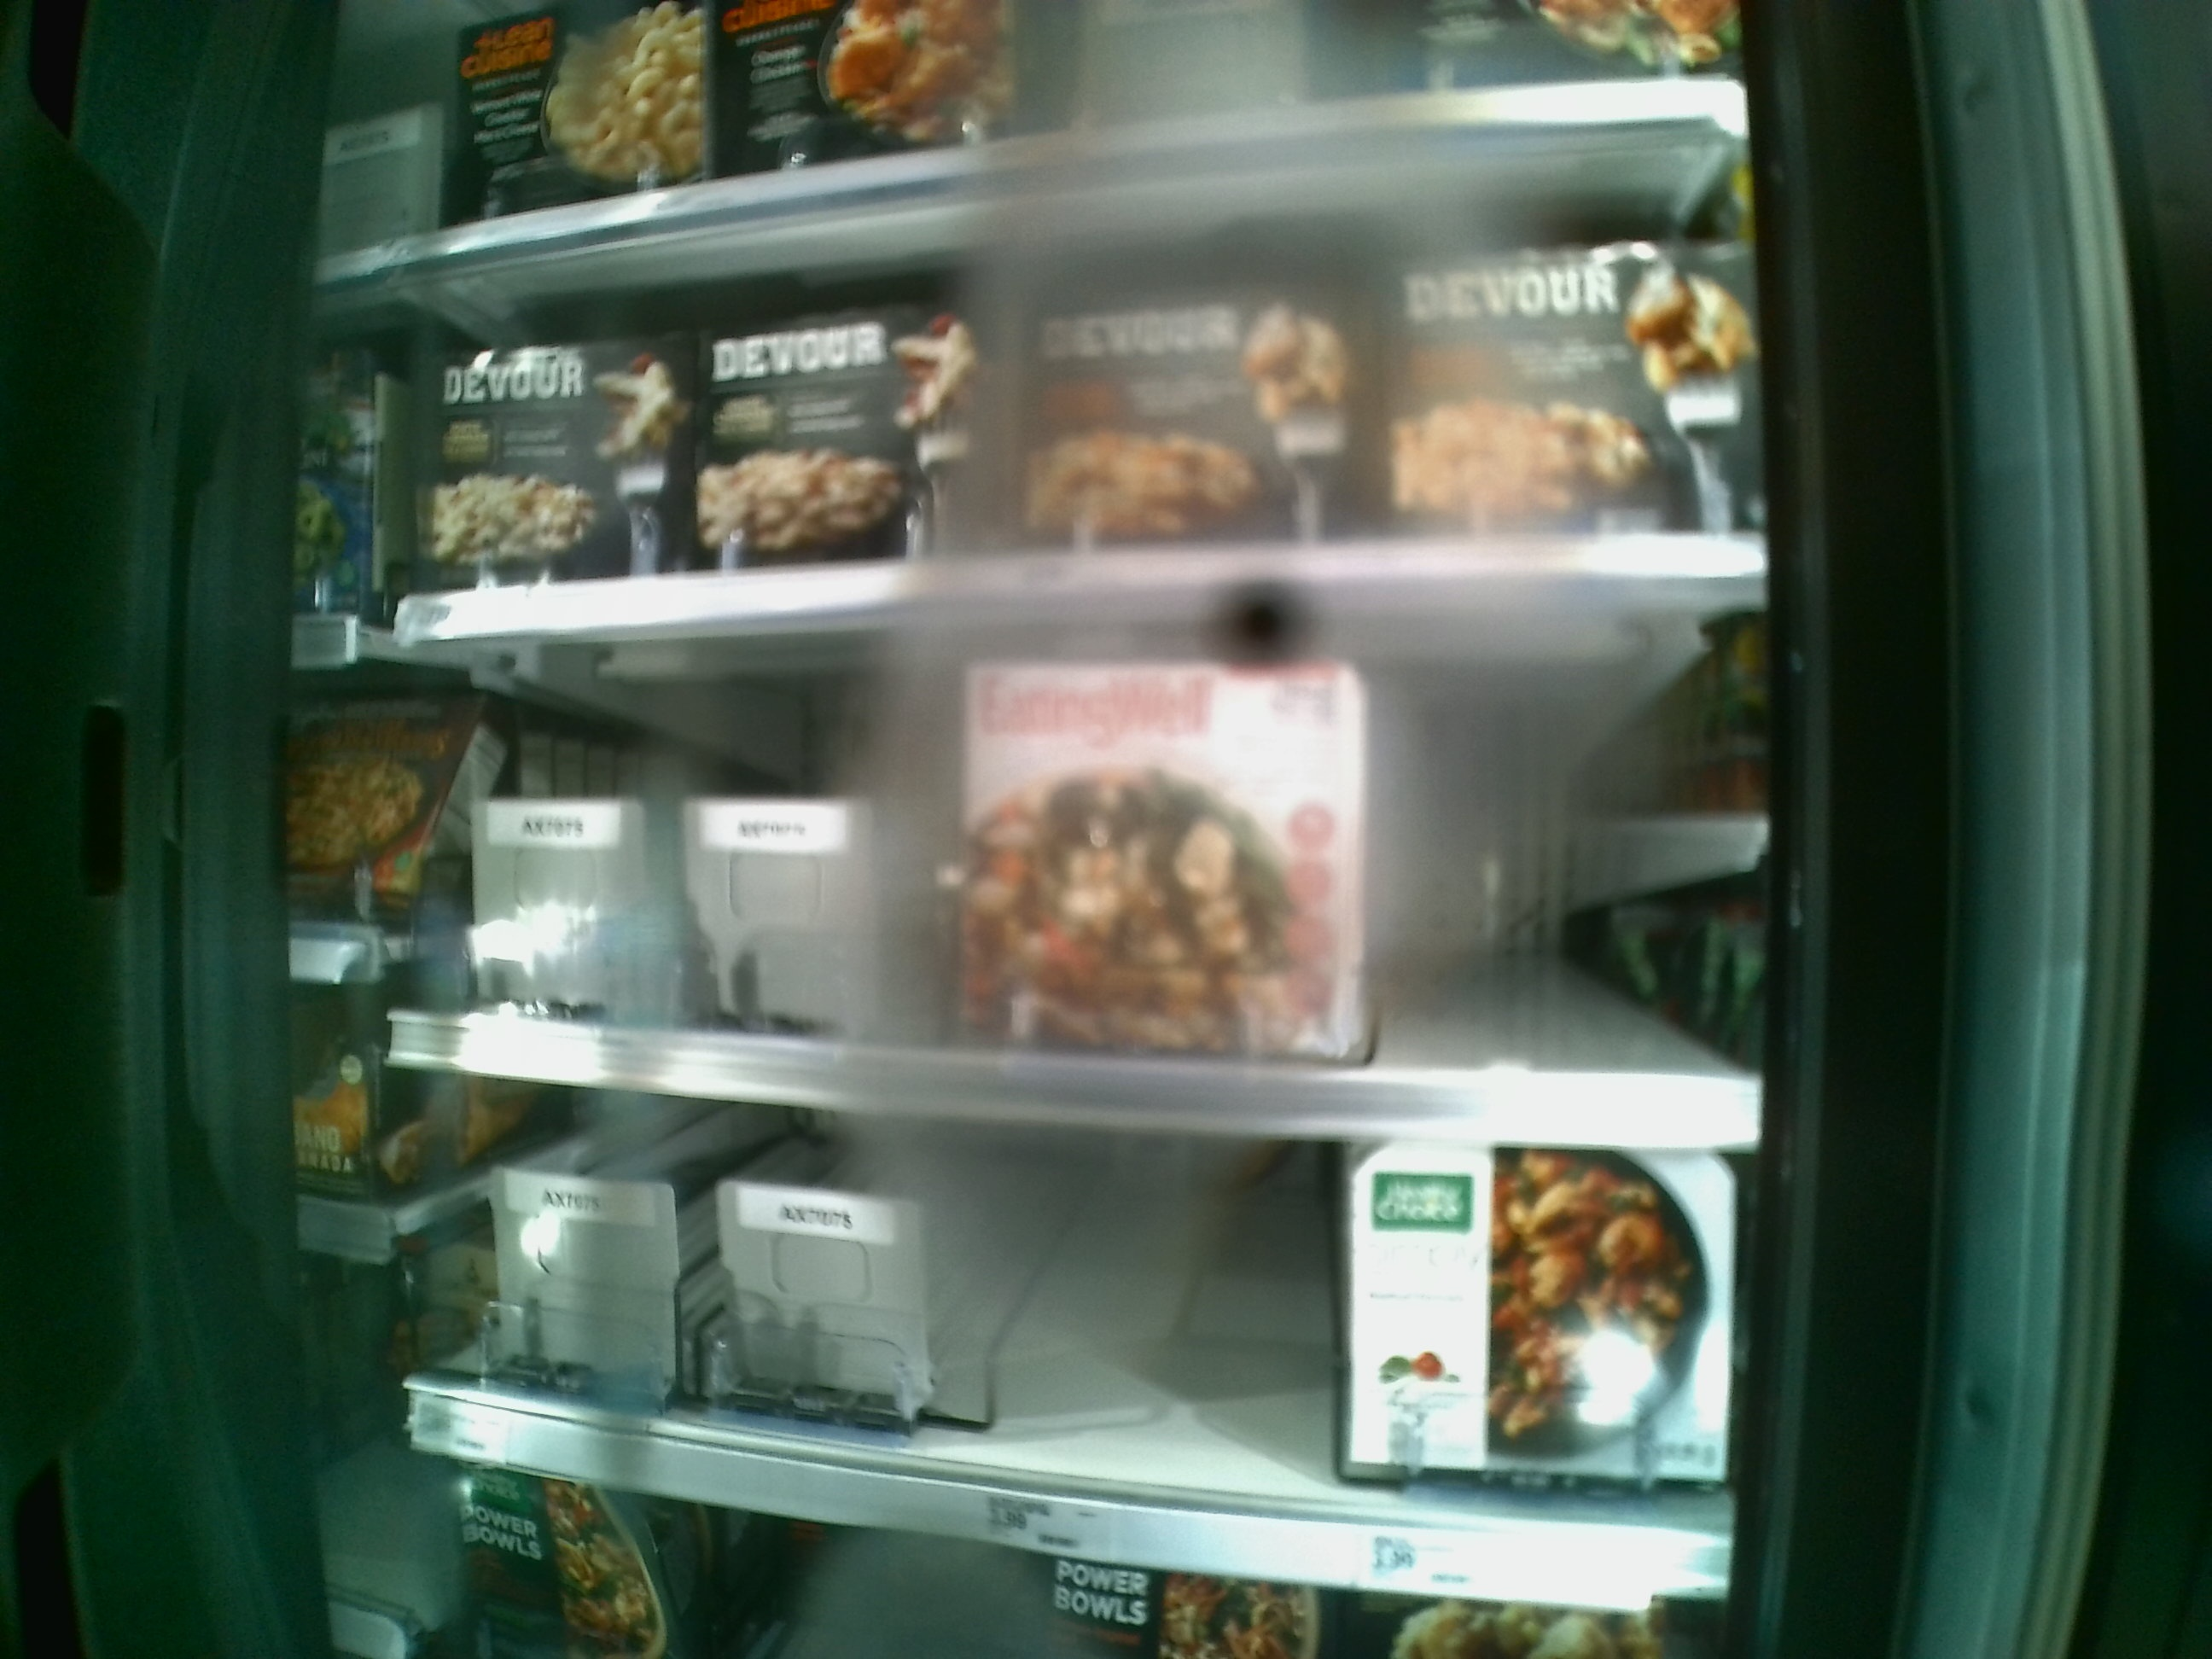Shelf: (380, 586, 1759, 1129)
